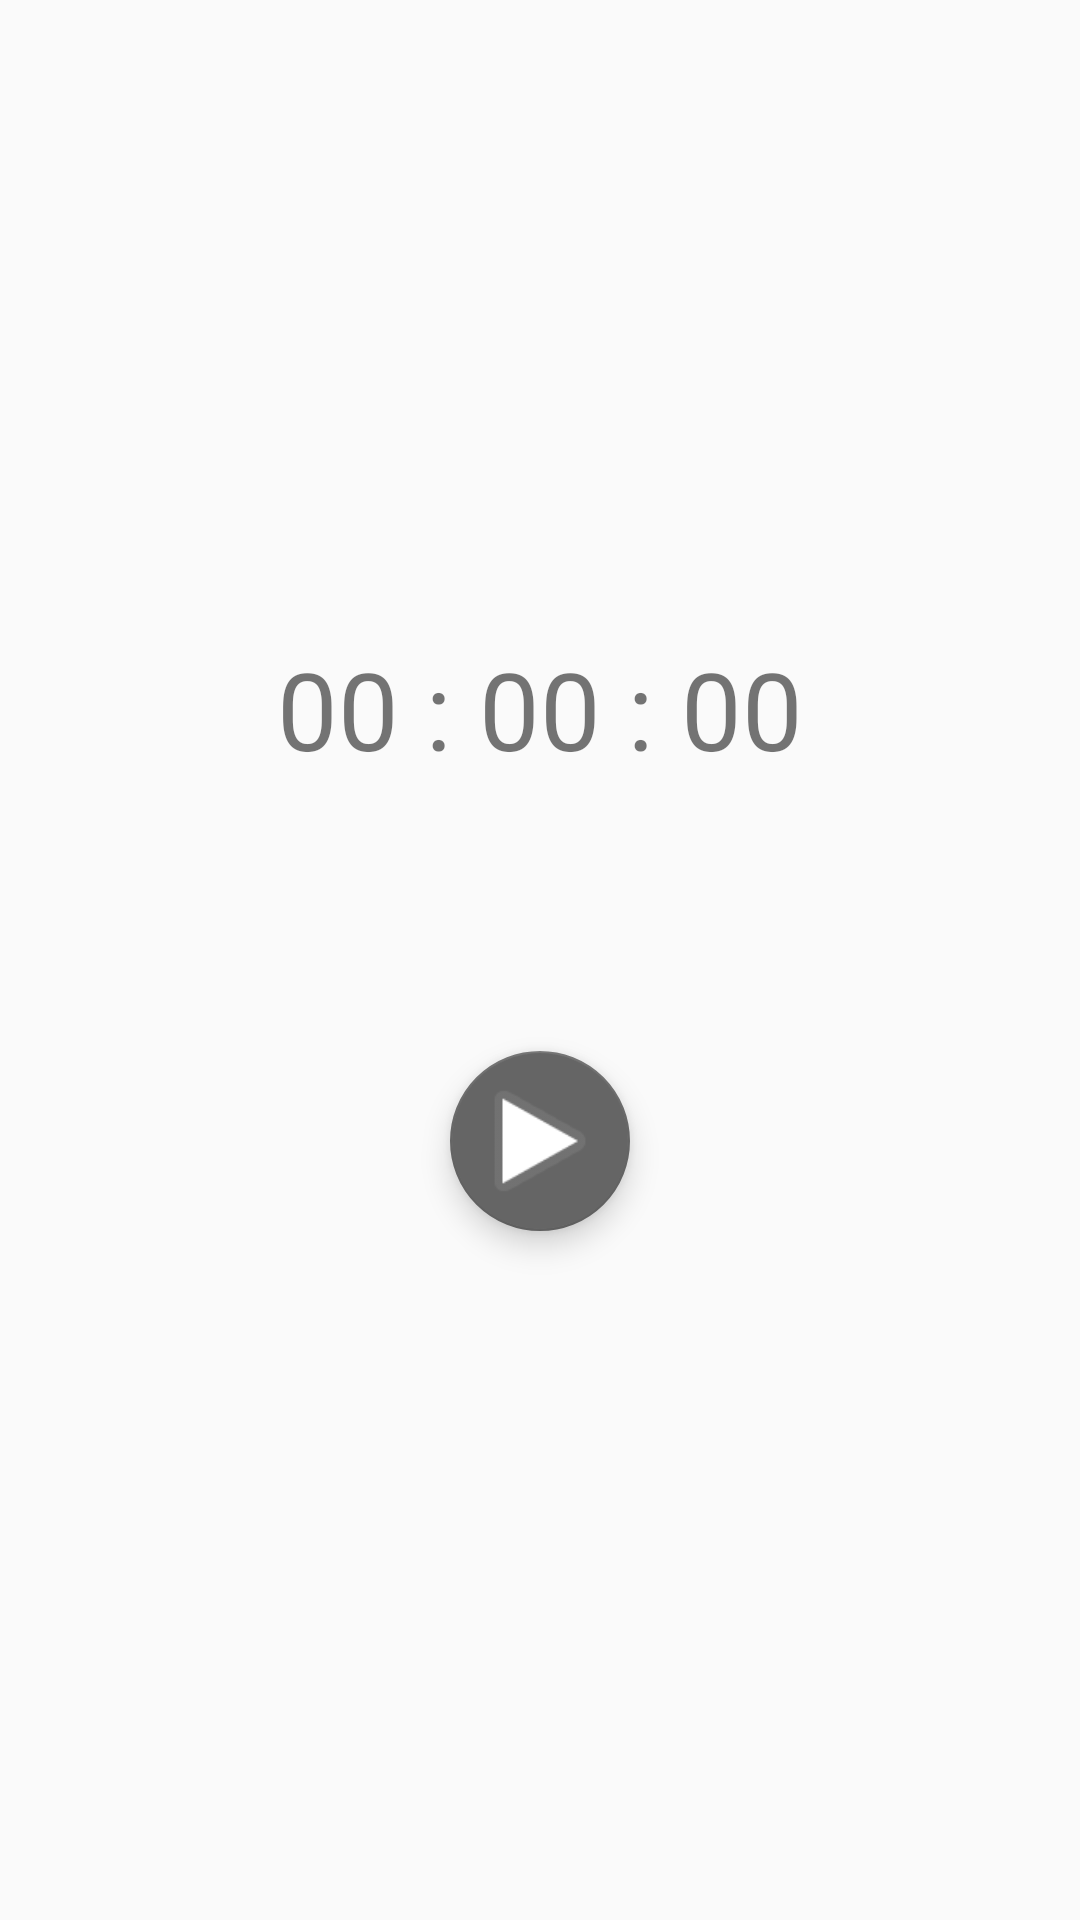

Icon click points for this 1080*1920 phone screenshot, format (x,y):
play: (540,1141)
